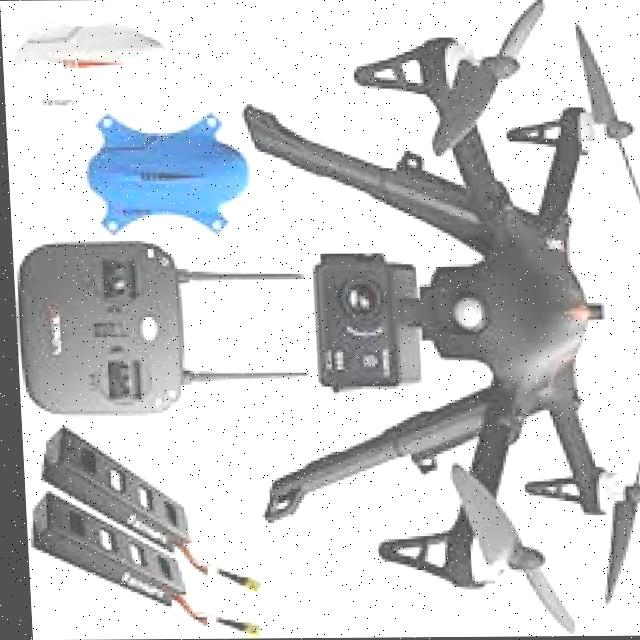drone: (204, 0, 640, 639)
